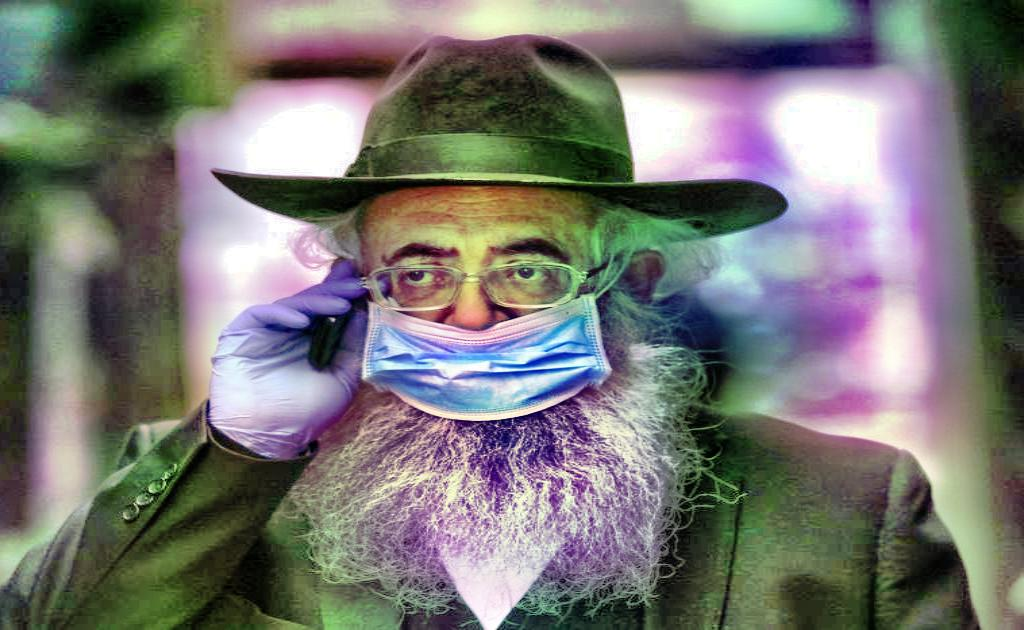mask_weared_incorrect: (340, 192, 661, 427)
